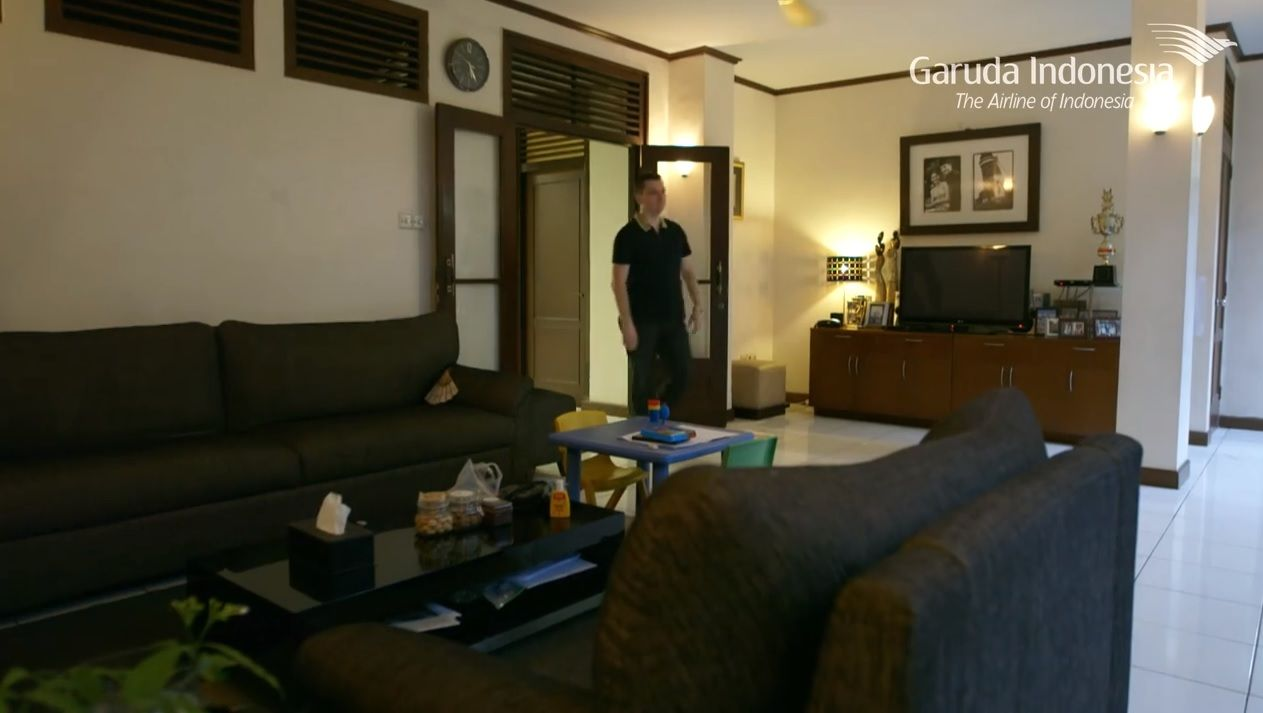Foto: (893, 119, 1047, 240)
Jam Dinding: (442, 34, 494, 98)
Meja: (560, 412, 756, 495)
Sova: (604, 409, 1128, 711), (1, 319, 560, 566)
TV: (894, 243, 1034, 339)
Tisu: (280, 490, 384, 586)
